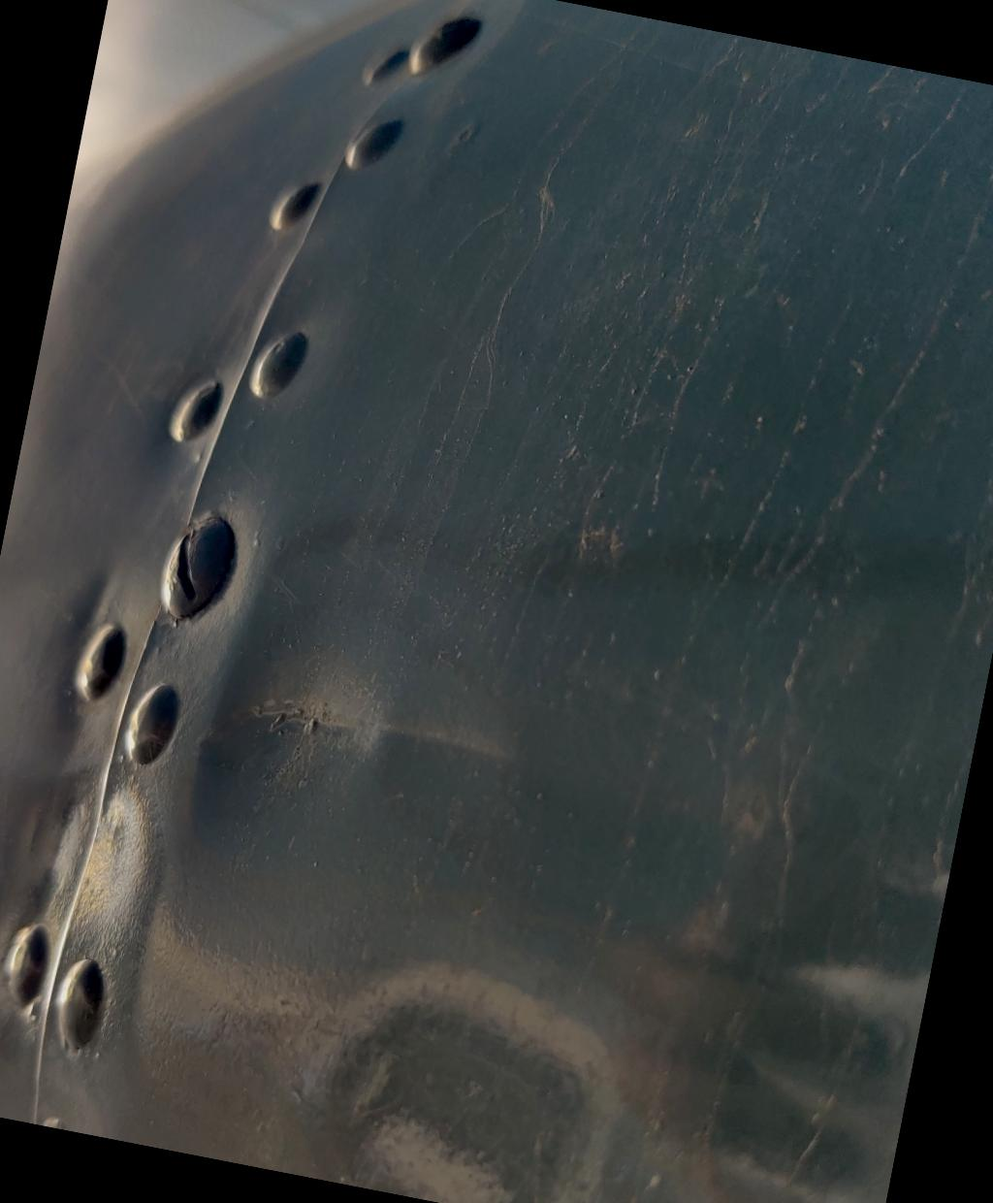dent: (238, 874, 698, 1203), (191, 595, 444, 846)
